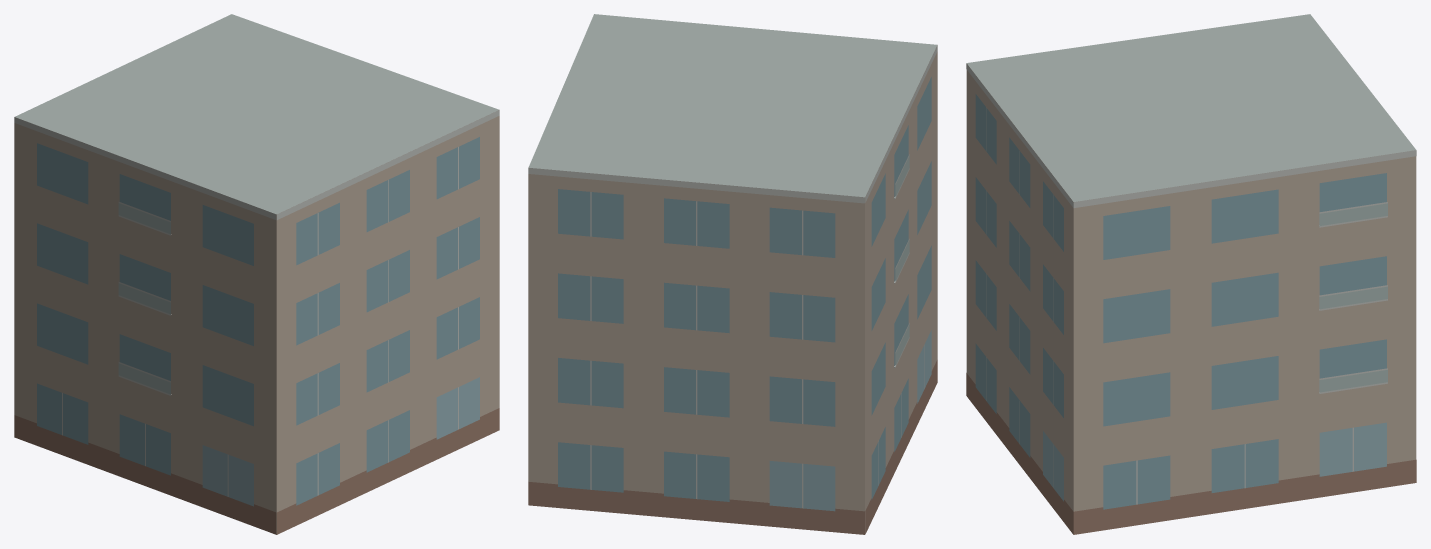
File: survey-upis-32780652.glb
3 views of the same model, side by side, from view 1: azimuth 30°, elevation 25°; view 2: azimuth 150°, elevation 25°; view 3: azimuth 270°, elevation 25° (orthographic). The views are drawn at different scales.
Visible parts, largest first — view 1: survey-upis-32780652.tmp; view 2: survey-upis-32780652.tmp; view 3: survey-upis-32780652.tmp.
Part boxes in pixels (<box>): survey-upis-32780652.tmp: <box>14,14,499,534</box>; survey-upis-32780652.tmp: <box>528,14,937,534</box>; survey-upis-32780652.tmp: <box>966,14,1416,534</box>.
Size of the model in its own units: 16.13 by 13.3 by 16.31.
